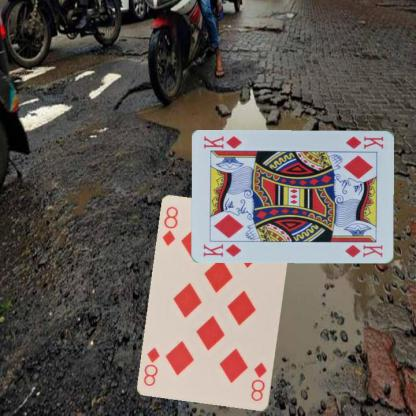8d: (248, 360, 268, 403), (160, 204, 180, 247)
Kd: (201, 241, 243, 258), (344, 133, 385, 150)
